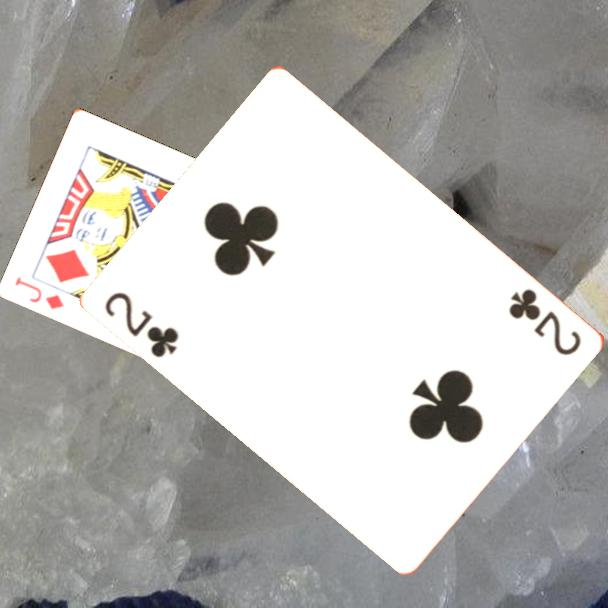c02: (505, 285, 585, 359), (102, 288, 183, 361)
d11: (12, 273, 67, 312)
